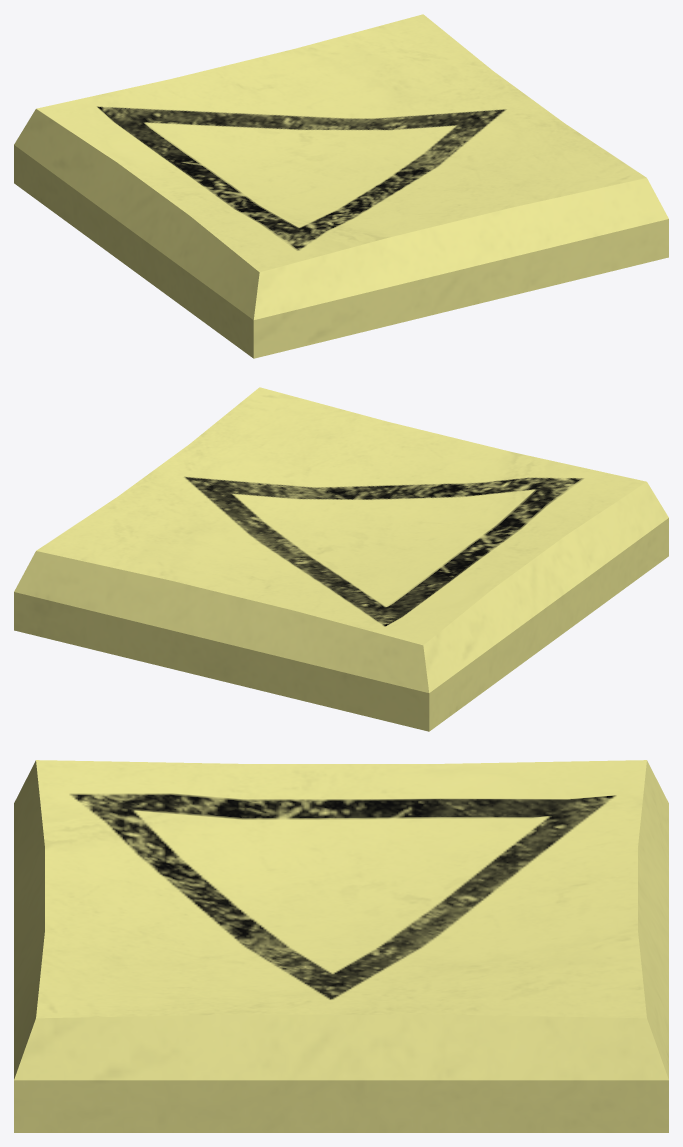
The model's file is SM_ControlPanelButton3.FBX.
3 renders of one model, top to bottom at view 1: azimuth 30°, elevation 25°; view 2: azimuth 150°, elevation 25°; view 3: azimuth 270°, elevation 25°, orthographic. The views are drawn at different scales.
Visible parts, largest first — view 1: Button_003; view 2: Button_003; view 3: Button_003.
Part boxes in pixels (x1=…): Button_003: x1=14, y1=14, x2=668, y2=358; Button_003: x1=14, y1=387, x2=668, y2=731; Button_003: x1=14, y1=760, x2=668, y2=1132.
Size of the model in its own units: 11.28 by 2 by 11.28.
